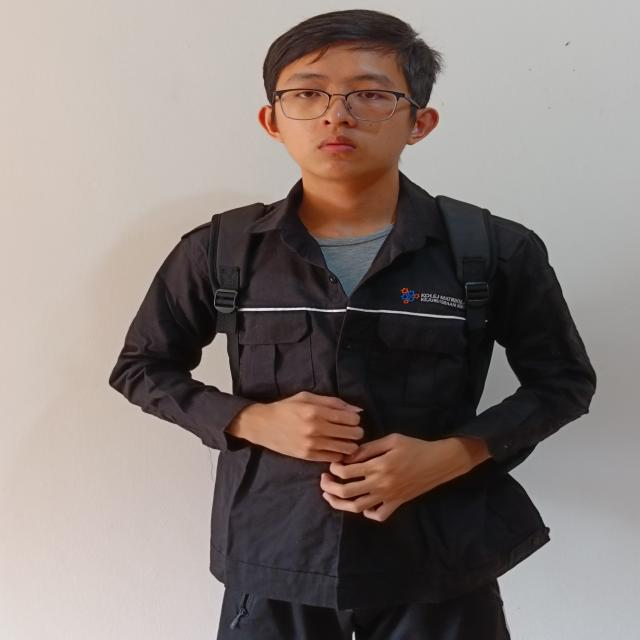person_with_labcoat: (110, 10, 595, 640)
